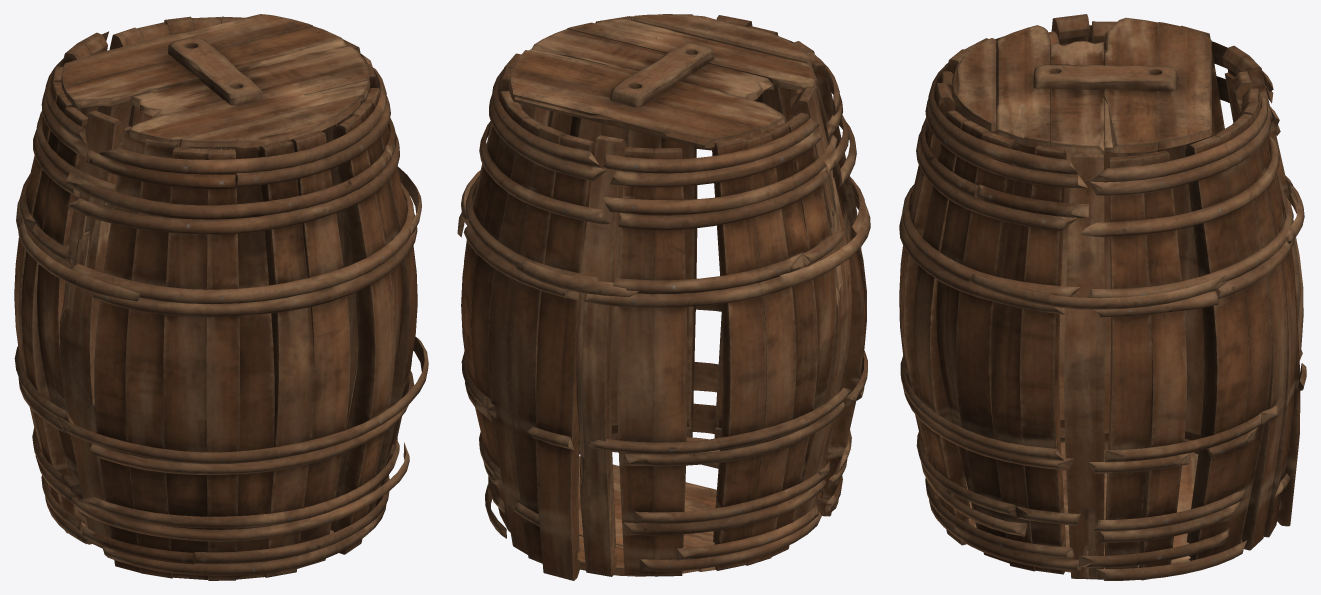
The model's file is wooden_barrel_01_pieces.fbx.
3 renders of one model, left to right at view 1: azimuth 30°, elevation 25°; view 2: azimuth 150°, elevation 25°; view 3: azimuth 270°, elevation 25°, orthographic.
Parts seen in each view (by area): view 1: wooden_barrels_01_piece01, wooden_barrels_01_piece08, wooden_barrels_01_piece02, wooden_barrels_01_piece06, wooden_barrels_01_piece09, wooden_barrels_01_piece03, wooden_barrels_01_piece07, wooden_barrels_01_piece16, wooden_barrels_01_piece05, wooden_barrels_01_piece17; view 2: wooden_barrels_01_piece02, wooden_barrels_01_piece03, wooden_barrels_01_piece08, wooden_barrels_01_piece01, wooden_barrels_01_piece05, wooden_barrels_01_piece06, wooden_barrels_01_piece09, wooden_barrels_01_piece15, wooden_barrels_01_piece16, wooden_barrels_01_piece07, wooden_barrels_01_piece11, wooden_barrels_01_piece13 (+1 smaller); view 3: wooden_barrels_01_piece03, wooden_barrels_01_piece01, wooden_barrels_01_piece08, wooden_barrels_01_piece04, wooden_barrels_01_piece02, wooden_barrels_01_piece09, wooden_barrels_01_piece17, wooden_barrels_01_piece05, wooden_barrels_01_piece06, wooden_barrels_01_piece13, wooden_barrels_01_piece07, wooden_barrels_01_piece11.
Boxes of the visible parts, left/top/right/bottom form: wooden_barrels_01_piece01: left=57, top=64, right=428, bottom=580; wooden_barrels_01_piece08: left=61, top=14, right=370, bottom=147; wooden_barrels_01_piece02: left=14, top=31, right=116, bottom=544; wooden_barrels_01_piece06: left=59, top=219, right=110, bottom=537; wooden_barrels_01_piece09: left=179, top=96, right=360, bottom=148; wooden_barrels_01_piece03: left=128, top=16, right=372, bottom=429; wooden_barrels_01_piece07: left=68, top=110, right=124, bottom=263; wooden_barrels_01_piece16: left=18, top=221, right=140, bottom=301; wooden_barrels_01_piece05: left=97, top=27, right=142, bottom=208; wooden_barrels_01_piece17: left=397, top=166, right=421, bottom=236; wooden_barrels_01_piece02: left=584, top=112, right=851, bottom=576; wooden_barrels_01_piece03: left=457, top=53, right=610, bottom=580; wooden_barrels_01_piece08: left=509, top=18, right=816, bottom=148; wooden_barrels_01_piece01: left=548, top=14, right=867, bottom=516; wooden_barrels_01_piece05: left=576, top=135, right=626, bottom=576; wooden_barrels_01_piece06: left=794, top=177, right=851, bottom=521; wooden_barrels_01_piece09: left=633, top=14, right=812, bottom=66; wooden_barrels_01_piece15: left=516, top=259, right=638, bottom=296; wooden_barrels_01_piece16: left=779, top=203, right=870, bottom=287; wooden_barrels_01_piece07: left=792, top=86, right=836, bottom=235; wooden_barrels_01_piece11: left=579, top=456, right=716, bottom=510; wooden_barrels_01_piece13: left=578, top=509, right=715, bottom=571; wooden_barrels_01_piece03: left=1079, top=88, right=1306, bottom=580; wooden_barrels_01_piece01: left=899, top=31, right=1088, bottom=574; wooden_barrels_01_piece08: left=997, top=17, right=1211, bottom=154; wooden_barrels_01_piece04: left=1064, top=153, right=1104, bottom=579; wooden_barrels_01_piece02: left=1088, top=21, right=1302, bottom=454; wooden_barrels_01_piece09: left=951, top=38, right=996, bottom=131; wooden_barrels_01_piece17: left=967, top=273, right=1227, bottom=309; wooden_barrels_01_piece05: left=1232, top=71, right=1303, bottom=359; wooden_barrels_01_piece06: left=1059, top=152, right=1071, bottom=442; wooden_barrels_01_piece13: left=1171, top=452, right=1198, bottom=564; wooden_barrels_01_piece07: left=1051, top=14, right=1089, bottom=45; wooden_barrels_01_piece11: left=1061, top=442, right=1107, bottom=572.
Bounding box in the file's own units: 30.22 × 29.92 × 35.89.
